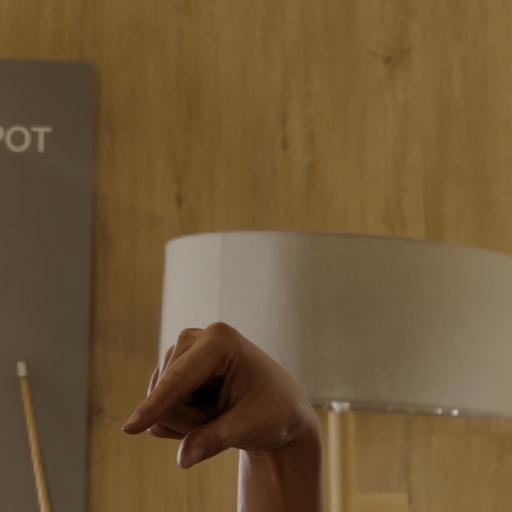Q: (115, 313, 335, 495)
